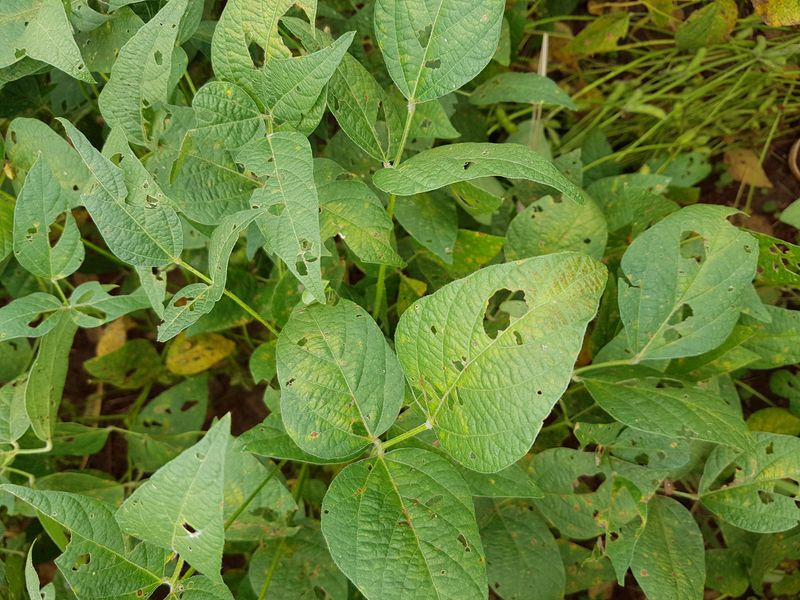Nezara_viridula_adulto: (297, 275, 340, 310)
